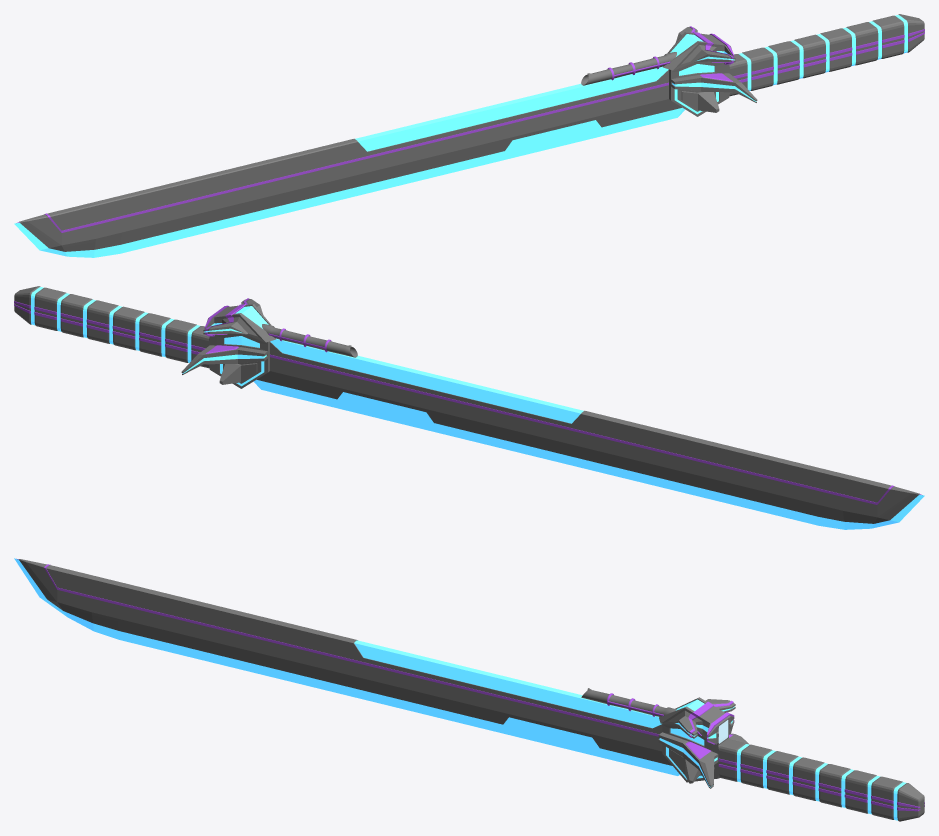
The picture shows the model from 3 angles, top to bottom: view 1: azimuth 30°, elevation 25°; view 2: azimuth 150°, elevation 25°; view 3: azimuth 330°, elevation 25°; orthographic projection.
Parts seen in each view (by area): view 1: StunSword; view 2: StunSword; view 3: StunSword.
Part boxes in pixels (<box>): StunSword: <box>14,14,924,257</box>; StunSword: <box>14,286,924,529</box>; StunSword: <box>14,558,924,821</box>.
Bounding box in the file's own units: 2890 × 235 × 256.
